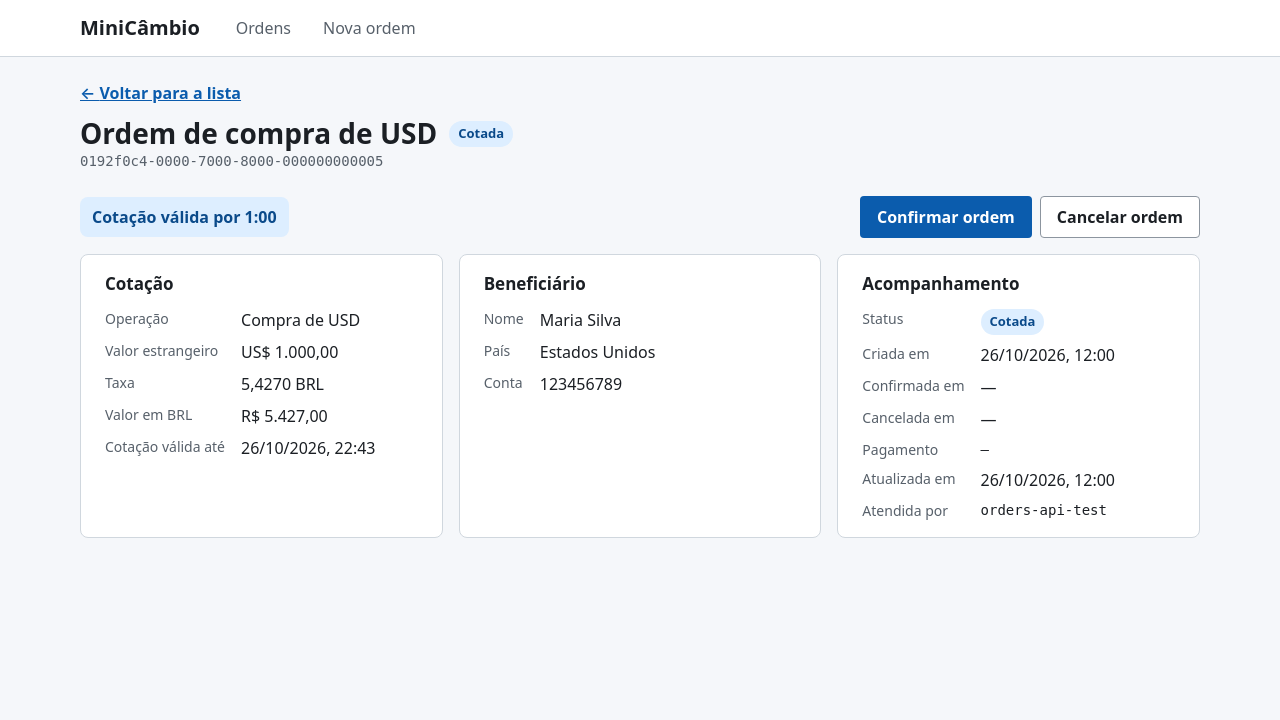
Test: OrderDetailsPage › mostra a mensagem do backend quando a confirmação é recusada
What coordinates should you click on to do the following:
click the button "Confirmar ordem"
I would click on:
 (946, 217)
Its box is [860,196,1032,238].
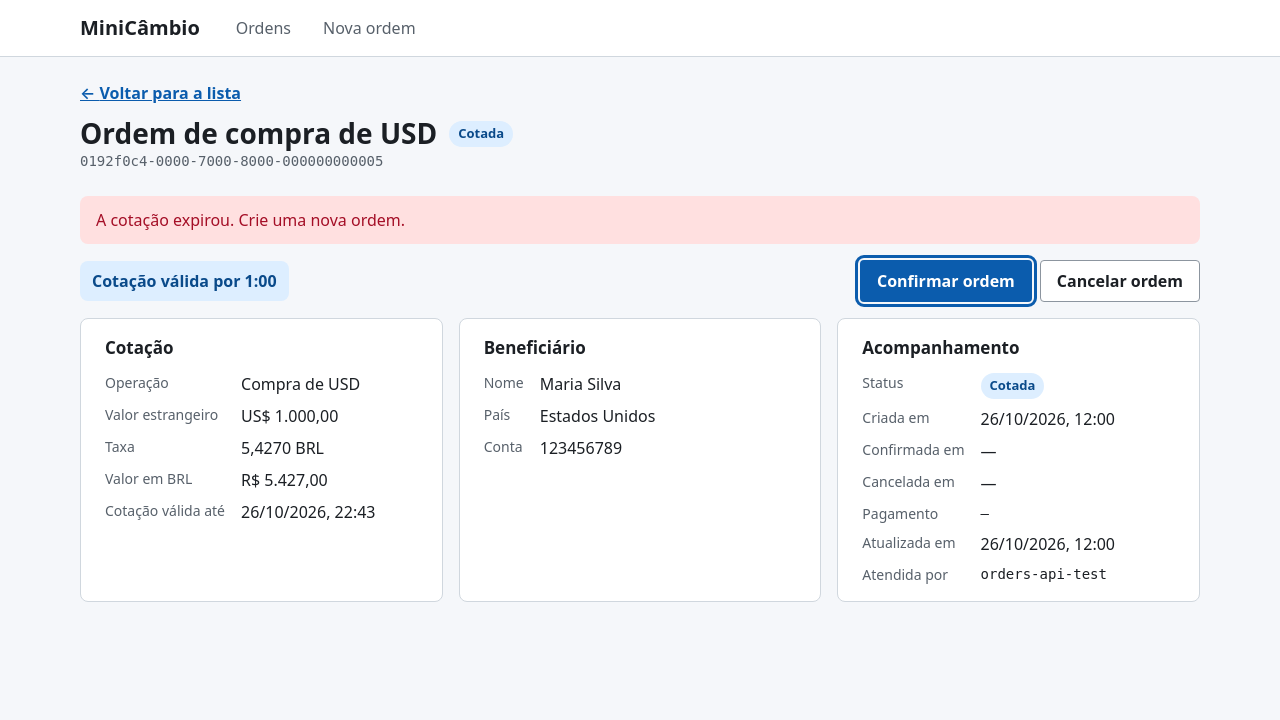
Now the text "A cotação expirou. Crie uma nova ordem." is shown, box [80,196,1200,244]
